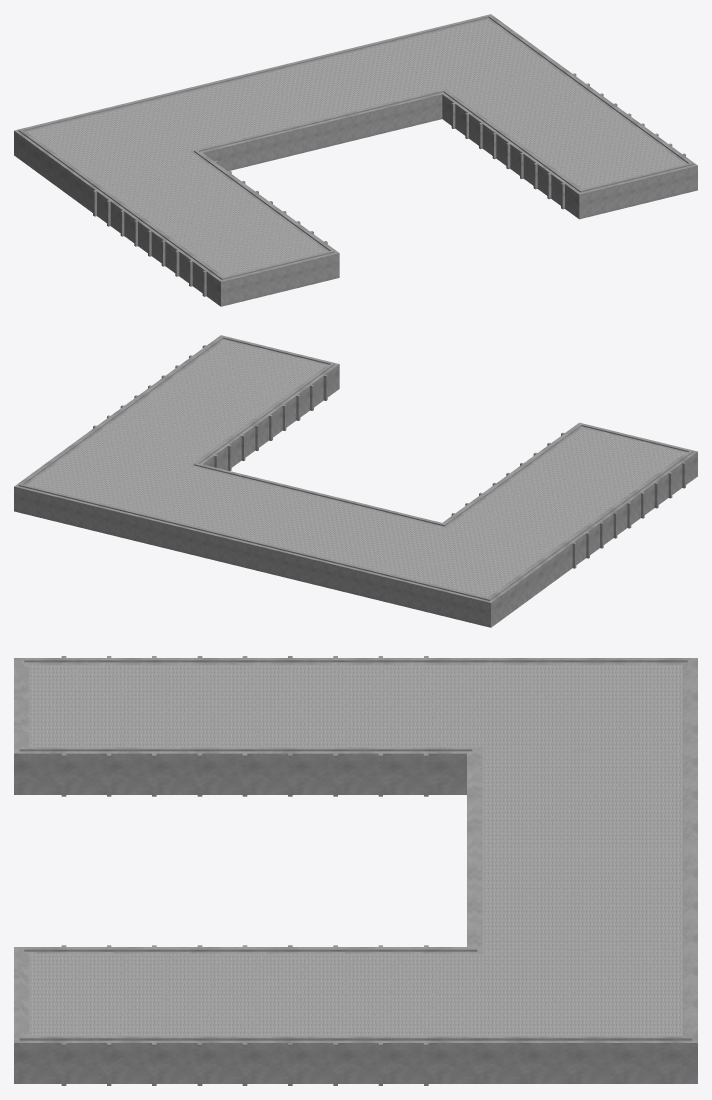
The model's file is plateform.fbx.
3 views of the same model, one above another, from view 1: azimuth 30°, elevation 25°; view 2: azimuth 150°, elevation 25°; view 3: azimuth 270°, elevation 25° (orthographic). The views are drawn at different scales.
Visible parts, largest first — view 1: Rooftop; view 2: Rooftop; view 3: Rooftop.
Boxes of the visible parts, x1=… form: Rooftop: x1=14, y1=14, x2=697, y2=306; Rooftop: x1=14, y1=335, x2=697, y2=627; Rooftop: x1=14, y1=656, x2=697, y2=1085.
Bounding box in the file's own units: 40600 × 2100 × 30200.
